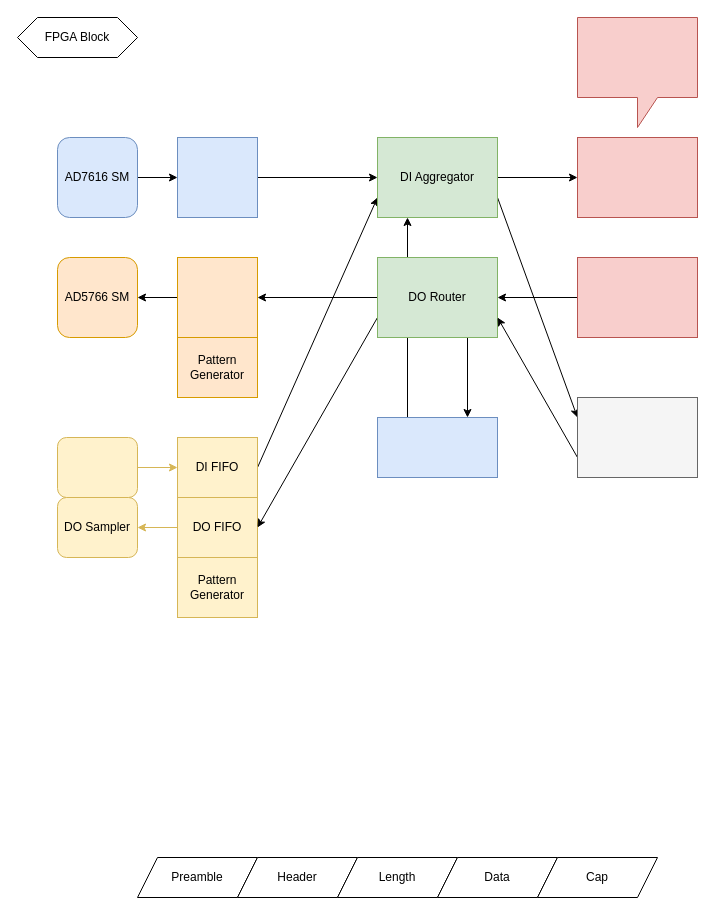
This 715x915 diagram has some shape labels left out. The box of each missing label's shape, as (x1, y1, x2, y2) in pixels:
ADC FIFO: (176, 136, 258, 218)
Control Registers To ALL: (376, 416, 498, 478)
DAC FIFO: (176, 256, 258, 338)
Data Format and Protocol: (576, 16, 698, 128)
DI Sampler: (56, 436, 138, 498)
FT60X Controller: (576, 396, 698, 478)
Serdes Input Decoder: (576, 256, 698, 338)
Serdes Output Encoder: (576, 136, 698, 218)
